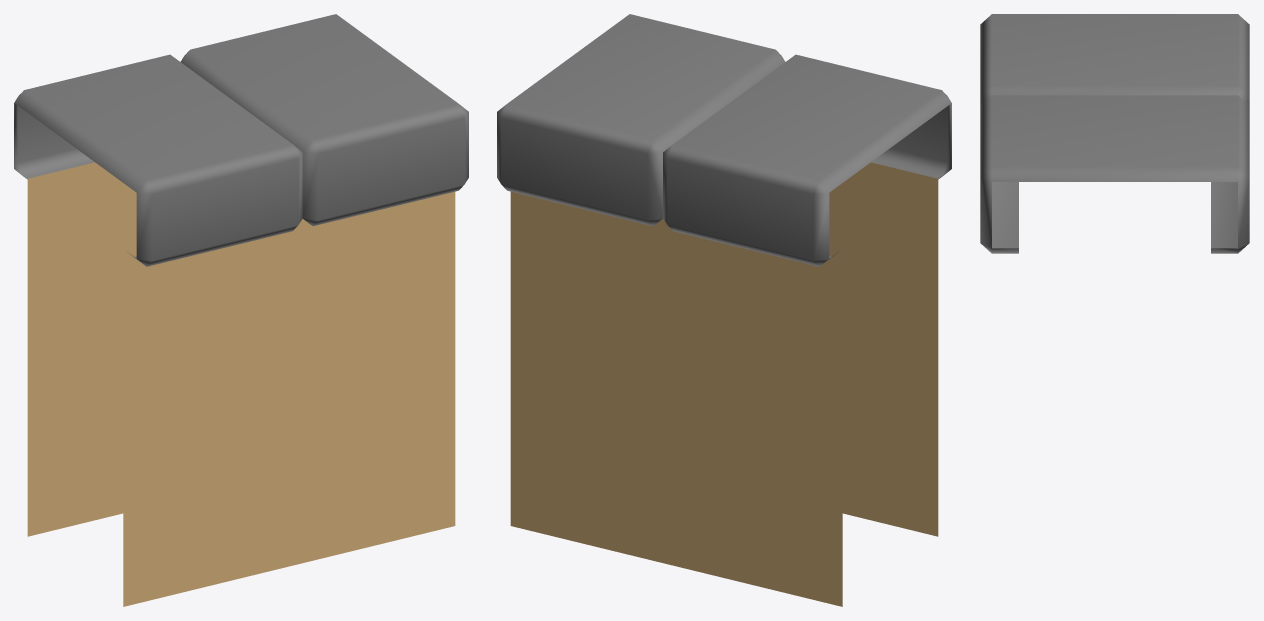
The model's file is SM_WallB_2x2_LOD0.fbx.
3 renders of one model, left to right at view 1: azimuth 30°, elevation 25°; view 2: azimuth 150°, elevation 25°; view 3: azimuth 270°, elevation 25°, orthographic.
Visible parts, largest first — view 1: SM_WallB_2x2_LOD0; view 2: SM_WallB_2x2_LOD0; view 3: SM_WallB_2x2_LOD0.
Part boxes in pixels (left/top/right/bottom): SM_WallB_2x2_LOD0: left=14, top=14, right=468, bottom=606; SM_WallB_2x2_LOD0: left=497, top=14, right=951, bottom=606; SM_WallB_2x2_LOD0: left=980, top=14, right=1249, bottom=253.
Bounding box in the file's own units: 2 × 2.5 × 1.4.
